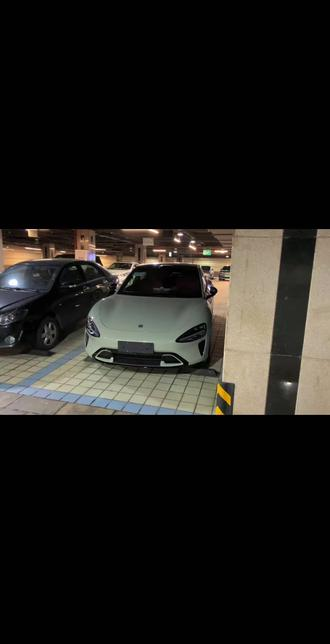other: (1, 255, 121, 357)
su7: (90, 257, 219, 372)
